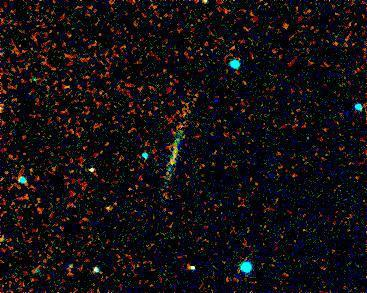star: (271, 11, 301, 41)
